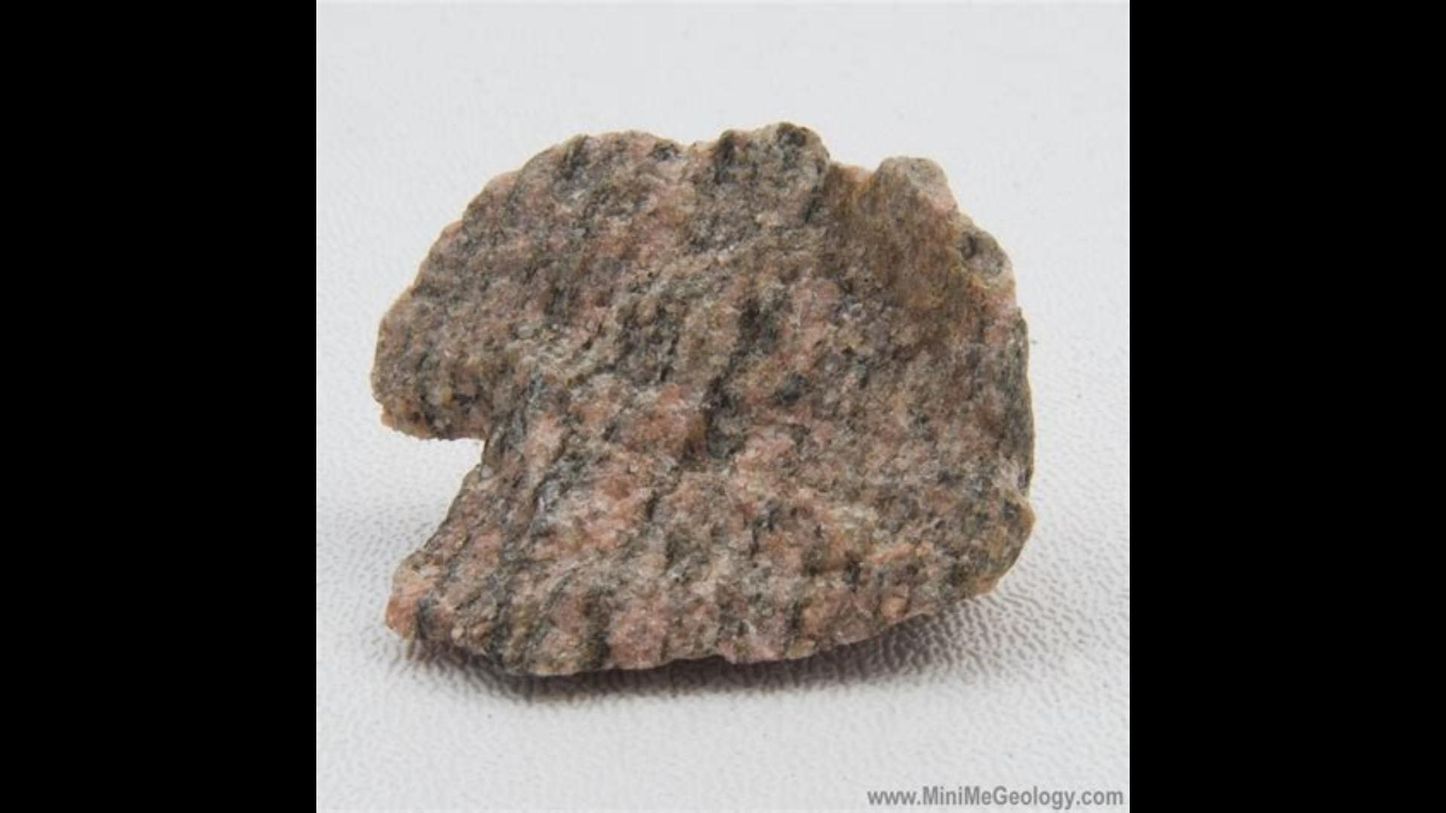rock: (376, 123, 1032, 676)
